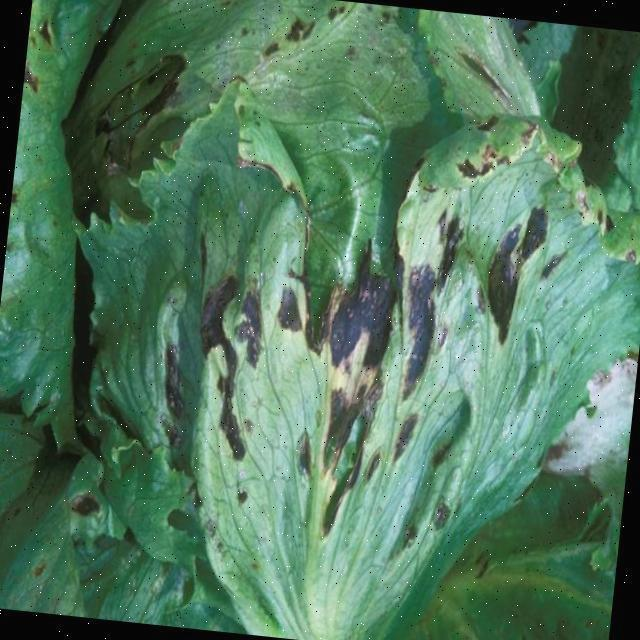Bacterial: (169, 124, 532, 559)
